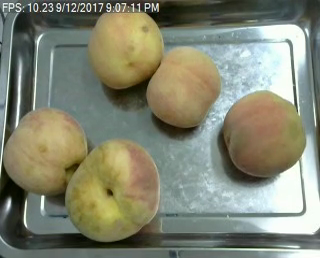Peach: (64, 139, 159, 244), (221, 90, 308, 179), (4, 107, 85, 195), (87, 9, 166, 96), (148, 71, 225, 153)
